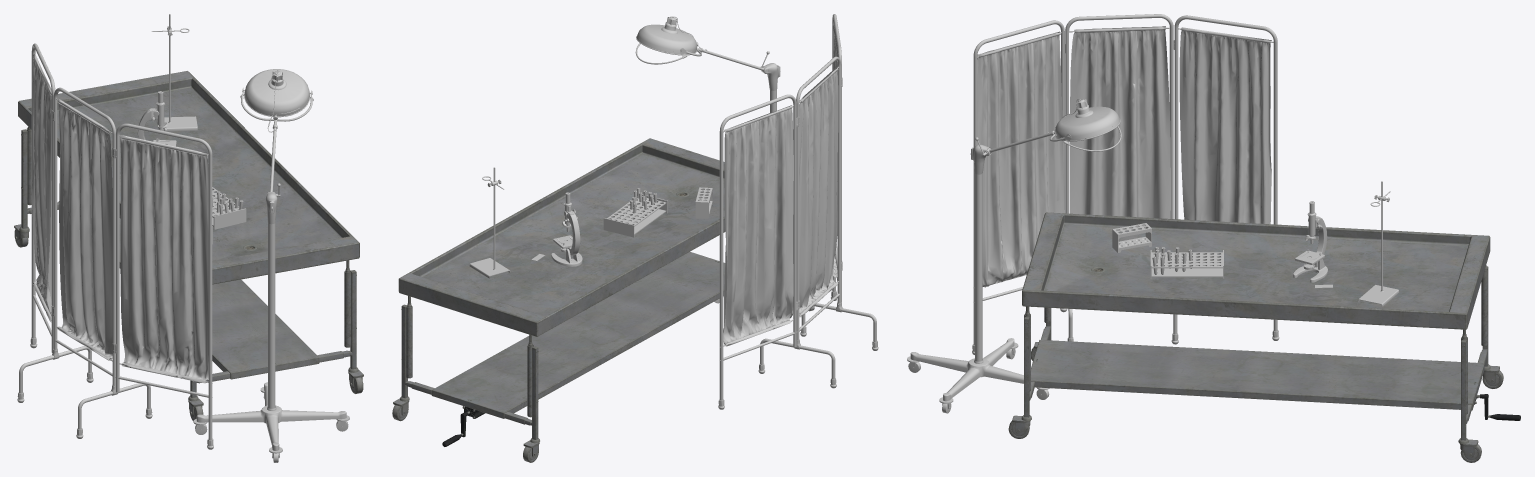
File: AutopsyLab_2.fbx
3 renders of one model, left to right at view 1: azimuth 30°, elevation 25°; view 2: azimuth 150°, elevation 25°; view 3: azimuth 270°, elevation 25°, orthographic. The views are drawn at different scales.
Visible parts, largest first — view 1: DissectionTable_Main, MedicalPartition_Curtain01, MedicalPartition_Curtain00, MedicalPartition_Curtain02, MedicalPartition_Side_01, MedicalPartition_Main, DissectionTable_Legs, MedicalLight_Shade, MedicalLight_Legs, MedicalPartition_Side, MedicalLight_Stand, MedicalPartition_Main_Legs (+5 smaller); view 2: DissectionTable_Main, MedicalPartition_Curtain02, MedicalPartition_Curtain00, MedicalPartition_Side, DissectionTable_Legs, MedicalPartition_Main, MedicalLight_Shade, VialHolder_Short, MedicalPartition_Main_Legs, LabTripod_Base, MedicalPartition_Side_01, VialHolder_Tall; view 3: DissectionTable_Main, MedicalPartition_Curtain01, MedicalPartition_Curtain00, MedicalPartition_Curtain02, DissectionTable_Legs, MedicalLight_Legs, MedicalPartition_Side, MedicalPartition_Main, MedicalLight_Stand, MedicalPartition_Side_01, MedicalLight_Shade, VialHolder_Short (+4 smaller).
Boxes of the visible parts, bbox=[...] form: DissectionTable_Main: bbox=[18, 71, 359, 379]; MedicalPartition_Curtain01: bbox=[120, 135, 208, 383]; MedicalPartition_Curtain00: bbox=[57, 98, 112, 360]; MedicalPartition_Curtain02: bbox=[31, 54, 51, 322]; MedicalPartition_Side_01: bbox=[114, 123, 213, 449]; MedicalPartition_Main: bbox=[51, 87, 118, 395]; DissectionTable_Legs: bbox=[19, 127, 358, 401]; MedicalLight_Shade: bbox=[244, 69, 310, 120]; MedicalLight_Legs: bbox=[193, 382, 349, 462]; MedicalPartition_Side: bbox=[30, 43, 55, 353]; MedicalLight_Stand: bbox=[265, 192, 277, 410]; MedicalPartition_Main_Legs: bbox=[17, 346, 152, 438]; DissectionTable_Main: bbox=[398, 138, 725, 418]; MedicalPartition_Curtain02: bbox=[723, 105, 793, 346]; MedicalPartition_Curtain00: bbox=[792, 67, 838, 317]; MedicalPartition_Side: bbox=[718, 94, 798, 409]; DissectionTable_Legs: bbox=[400, 261, 719, 443]; MedicalPartition_Main: bbox=[794, 56, 842, 349]; MedicalLight_Shade: bbox=[636, 16, 698, 55]; VialHolder_Short: bbox=[603, 194, 667, 237]; MedicalPartition_Main_Legs: bbox=[758, 303, 878, 388]; LabTripod_Base: bbox=[469, 167, 510, 278]; MedicalPartition_Side_01: bbox=[831, 14, 842, 305]; VialHolder_Tall: bbox=[695, 187, 712, 218]; DissectionTable_Main: bbox=[1022, 212, 1490, 410]; MedicalPartition_Curtain01: bbox=[977, 31, 1064, 287]; MedicalPartition_Curtain00: bbox=[1069, 26, 1170, 218]; MedicalPartition_Curtain02: bbox=[1179, 27, 1271, 224]; DissectionTable_Legs: bbox=[1021, 265, 1490, 443]; MedicalLight_Legs: bbox=[907, 338, 1049, 413]; MedicalPartition_Side: bbox=[1174, 15, 1279, 340]; MedicalPartition_Main: bbox=[1065, 14, 1174, 218]; MedicalLight_Stand: bbox=[970, 144, 991, 363]; MedicalPartition_Side_01: bbox=[972, 20, 1064, 354]; MedicalLight_Shade: bbox=[1055, 99, 1120, 141]; VialHolder_Short: bbox=[1150, 250, 1223, 279].
Bounding box in the file's own units: 179 × 166 × 294.
